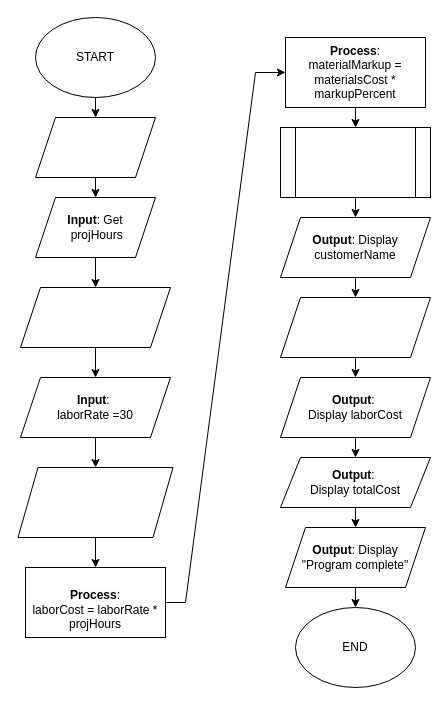
This 448x705 diagram has some shape labels left out. Each missing label, with the box of its shape:
Input : Get customerName: (34, 116, 156, 178)
Input : Get materialsCost: (20, 286, 170, 348)
Input : markupPercent = 1.2: (17, 466, 173, 538)
Output : Display projHours: (280, 296, 430, 358)
Process : totalCost = laborCost + materialMarkup: (280, 126, 430, 198)
